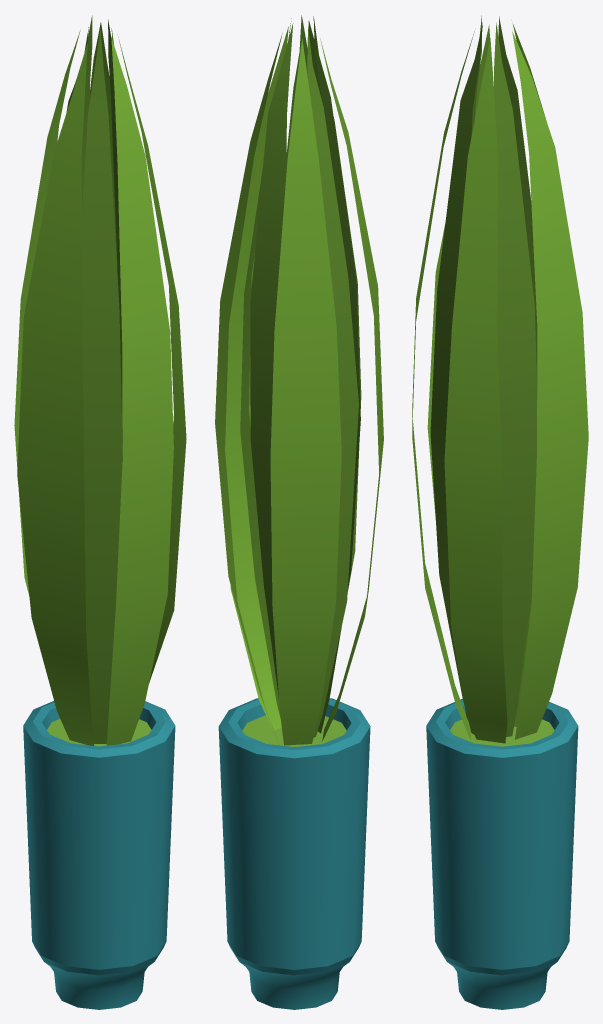
Rendered from plant.glb.
3 renders of one model, left to right at view 1: azimuth 30°, elevation 25°; view 2: azimuth 150°, elevation 25°; view 3: azimuth 270°, elevation 25°, orthographic.
Visible parts, largest first — view 1: Plant 5; view 2: Plant 5; view 3: Plant 5.
Boxes of the visible parts, x1=… form: Plant 5: x1=14, y1=15, x2=186, y2=1009; Plant 5: x1=215, y1=15, x2=383, y2=1009; Plant 5: x1=412, y1=15, x2=588, y2=1009.
Bounding box in the file's own units: 0.2976 × 1.76 × 0.2885.
Materials: 1 (1 with a texture image).
